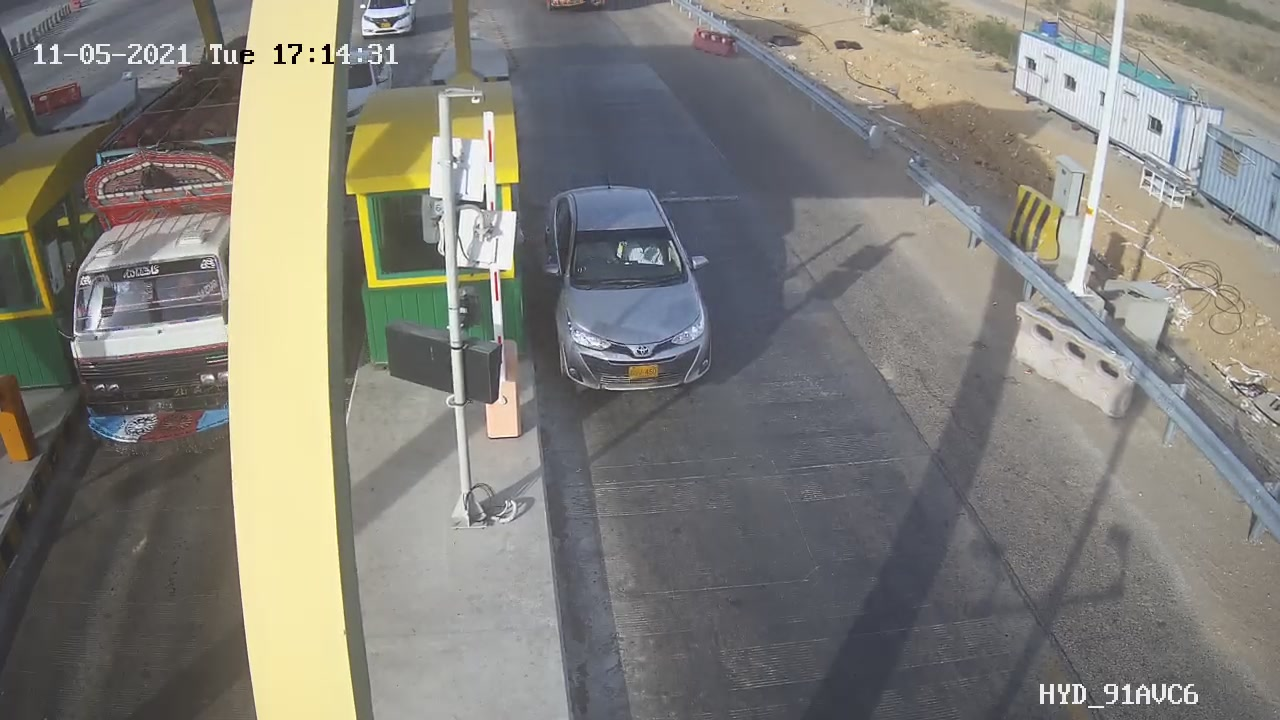F1: (520, 168, 740, 413)
